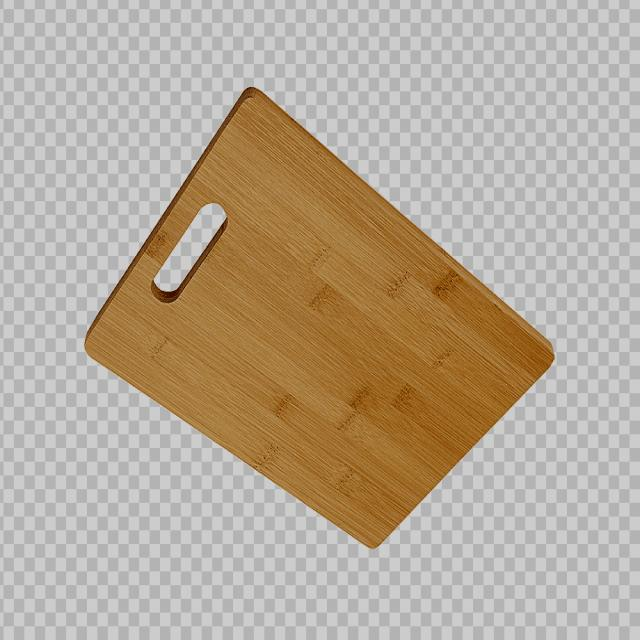Talenan: (68, 80, 565, 565)
